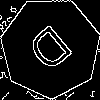D: (25, 23, 81, 81)
